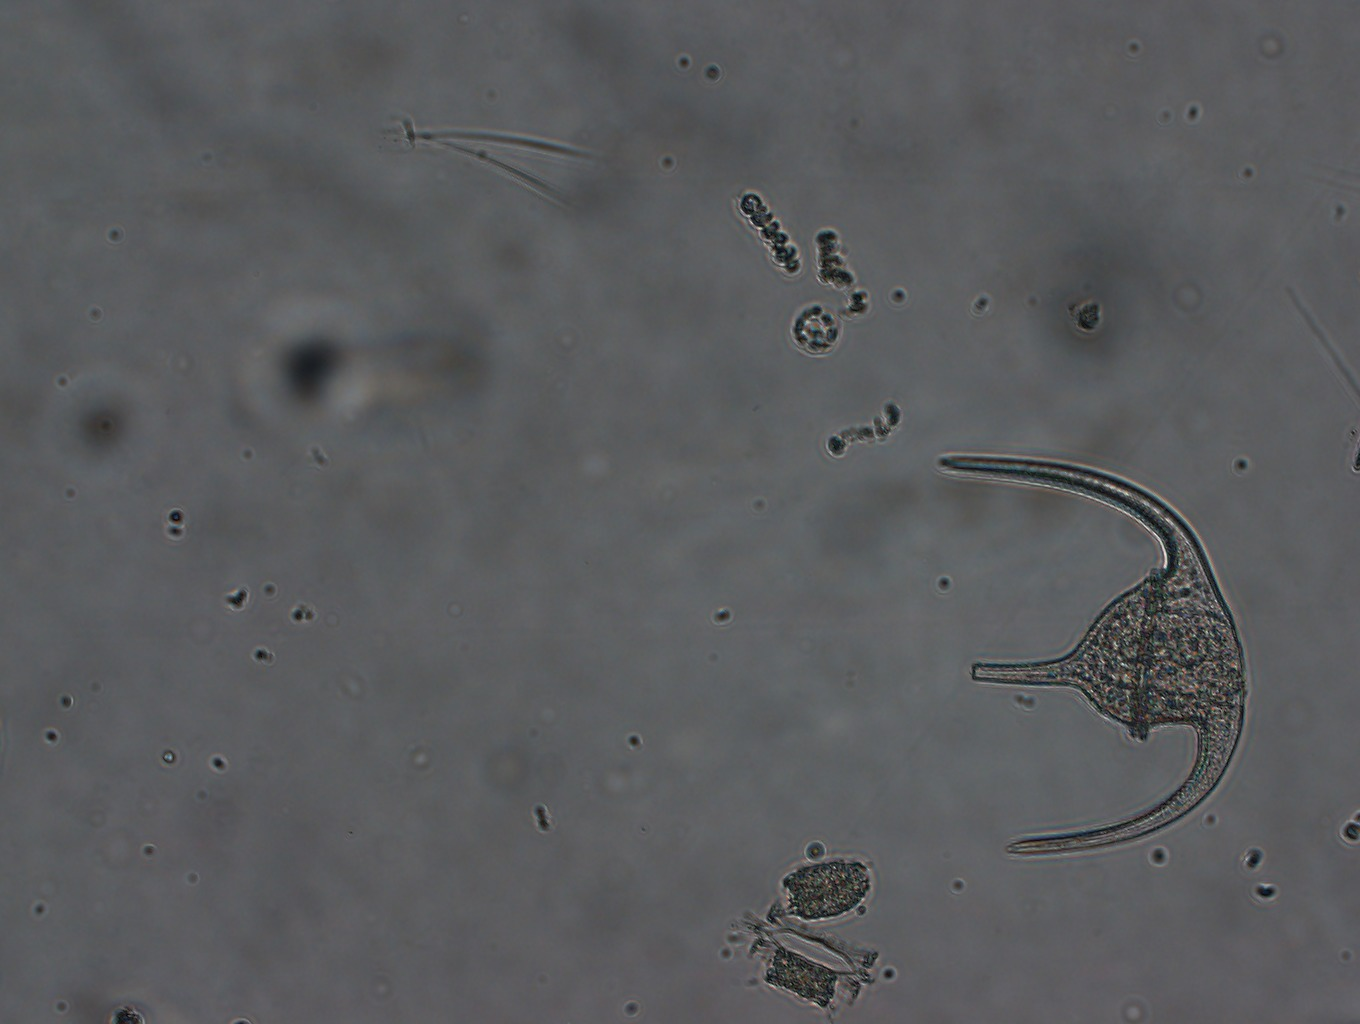ceratium tripos: (932, 445, 1256, 861)
